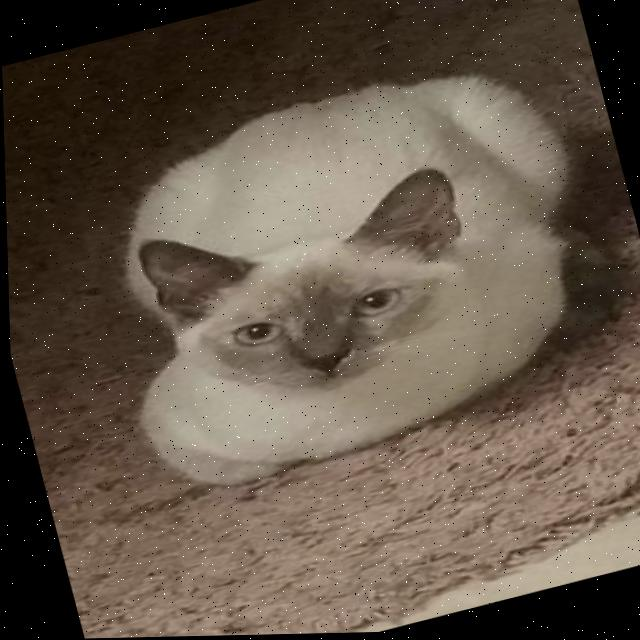Siamese: (57, 32, 640, 518)
